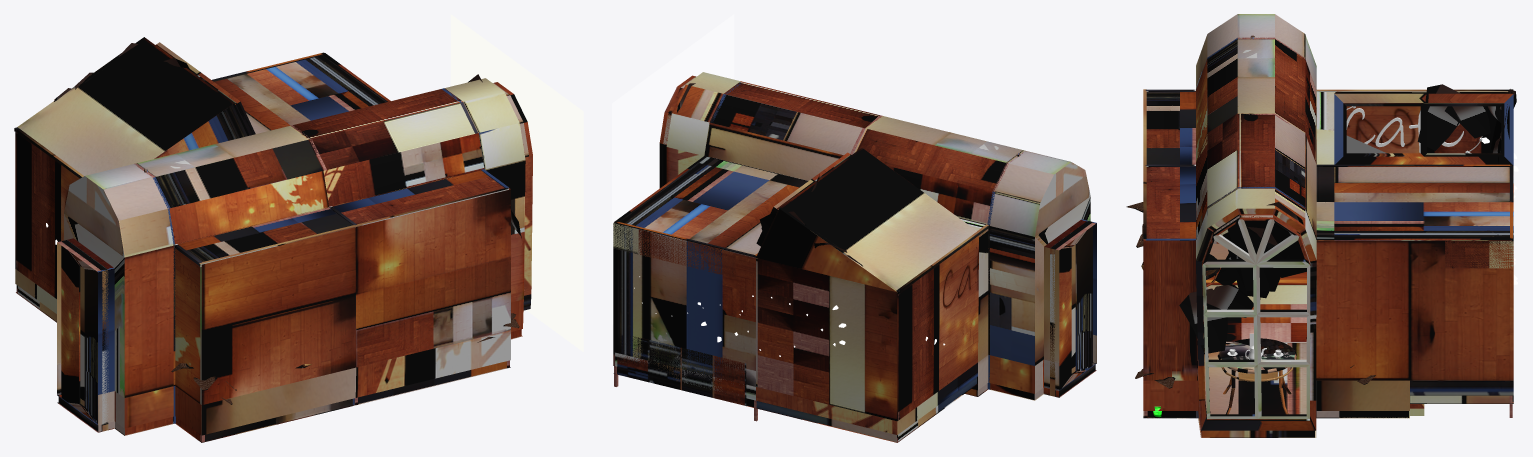
The model's file is cozy_morning_in_a_cafe__3d_editor_challenge.glb.
3 renders of one model, left to right at view 1: azimuth 30°, elevation 25°; view 2: azimuth 150°, elevation 25°; view 3: azimuth 270°, elevation 25°, orthographic. The views are drawn at different scales.
Parts seen in each view (by area): view 1: Building.002_14_31, Background_12_27, NoBakeStatic_15_33; view 2: Building.002_14_31, Background_12_27, NoBakeStatic_15_33; view 3: Building.002_14_31, NoBakeStatic_15_33, Board.002_13_29, chara_0_3.
Boxes of the visible parts, box(x1,y1,x2,y2) form: Building.002_14_31: box(14, 37, 532, 442); Background_12_27: box(451, 15, 583, 351); NoBakeStatic_15_33: box(46, 43, 521, 404); Building.002_14_31: box(613, 72, 1096, 442); Background_12_27: box(612, 14, 733, 324); NoBakeStatic_15_33: box(634, 83, 945, 356); Building.002_14_31: box(1143, 14, 1513, 437); NoBakeStatic_15_33: box(1126, 84, 1518, 417); Board.002_13_29: box(1141, 35, 1296, 414); chara_0_3: box(1346, 135, 1386, 153).
Bounding box in the file's own units: 6.26 × 3.37 × 4.88.
20 materials, 19 textured.
